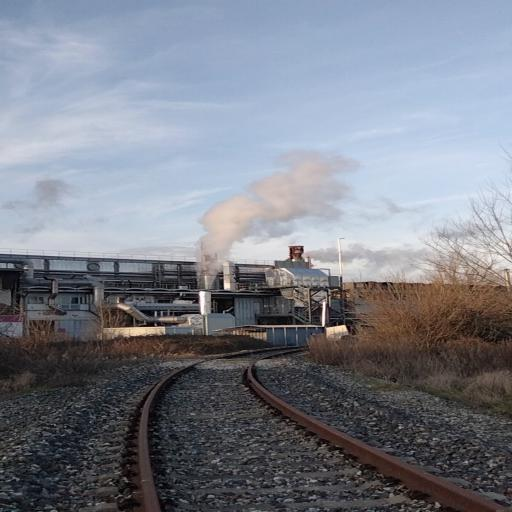leakage: (184, 147, 388, 292), (283, 236, 464, 278)
